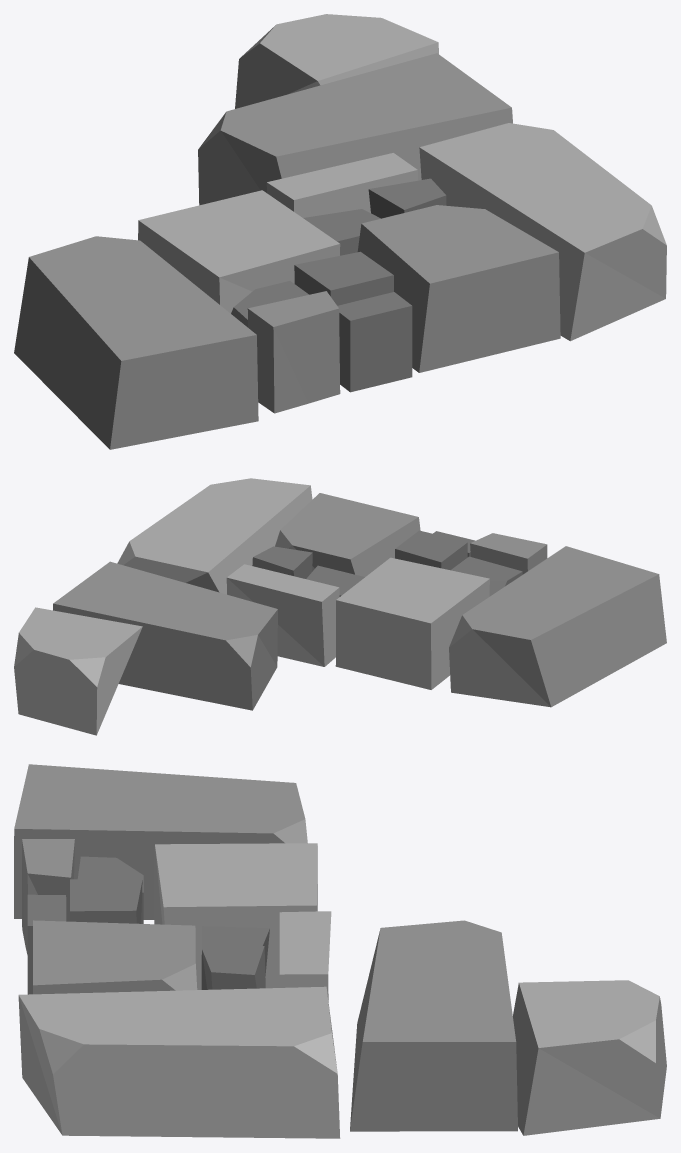
Rendered from EA03_Environment_Road_Cobble_Corner_01a.glb.
3 renders of one model, top to bottom at view 1: azimuth 30°, elevation 25°; view 2: azimuth 150°, elevation 25°; view 3: azimuth 270°, elevation 25°, orthographic. The views are drawn at different scales.
Parts seen in each view (by area): view 1: EA03_Environment_Road_Cobble_Corner_01a; view 2: EA03_Environment_Road_Cobble_Corner_01a; view 3: EA03_Environment_Road_Cobble_Corner_01a.
Part boxes in pixels (bbox=[...]): EA03_Environment_Road_Cobble_Corner_01a: bbox=[14, 14, 666, 449]; EA03_Environment_Road_Cobble_Corner_01a: bbox=[14, 478, 666, 735]; EA03_Environment_Road_Cobble_Corner_01a: bbox=[14, 764, 666, 1138].
Bounding box in the file's own units: 3.71 × 0.5544 × 3.53.
1 material, 1 textured.
